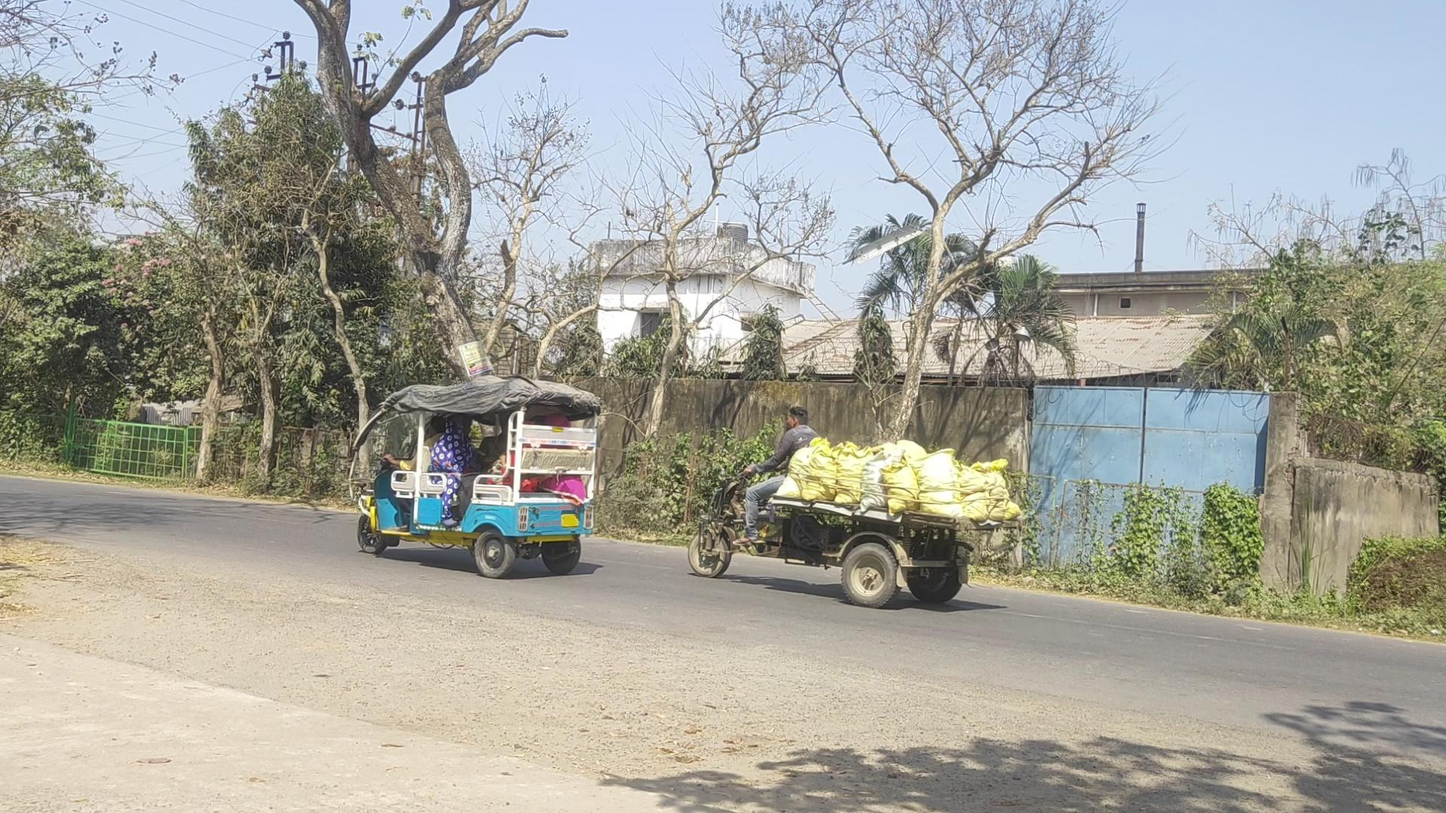Auto: (346, 377, 596, 578)
